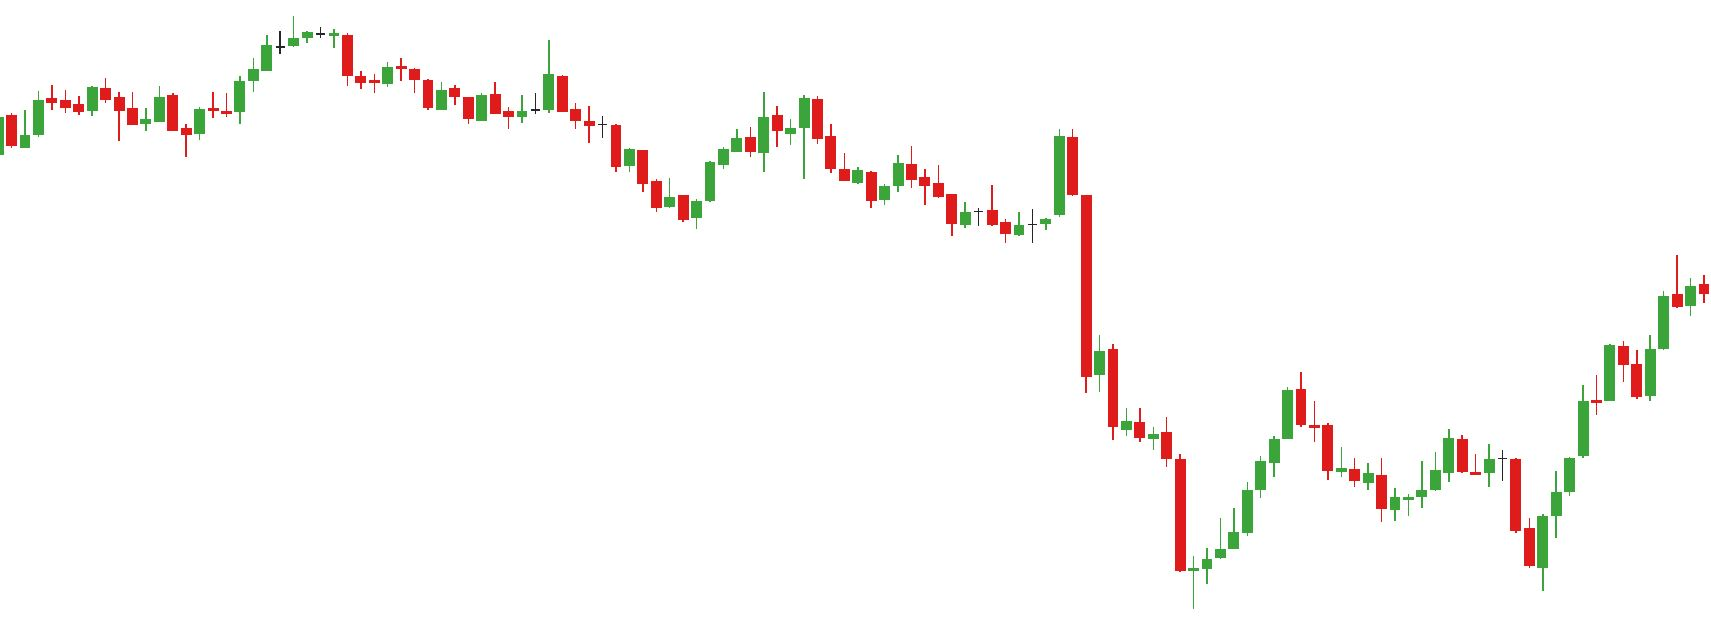buy: (1375, 445, 1552, 599)
sell: (933, 125, 1081, 213)
